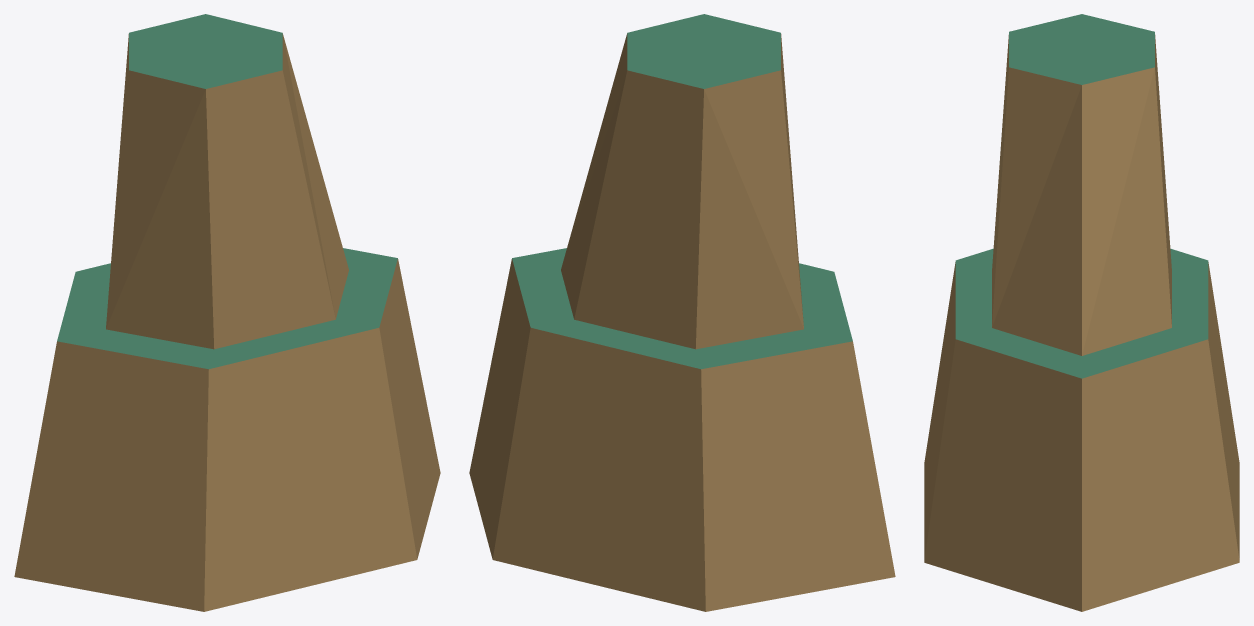
The model's file is Rock_Small_Mesa_Eroded_Moss_Grass_11.FBX.
3 views of the same model, side by side, from view 1: azimuth 30°, elevation 25°; view 2: azimuth 150°, elevation 25°; view 3: azimuth 270°, elevation 25° (orthographic). The views are drawn at different scales.
Parts seen in each view (by area): view 1: Rock_Small_Mesa_Eroded_Moss_Grass_11; view 2: Rock_Small_Mesa_Eroded_Moss_Grass_11; view 3: Rock_Small_Mesa_Eroded_Moss_Grass_11.
Boxes of the visible parts, bbox=[...] form: Rock_Small_Mesa_Eroded_Moss_Grass_11: bbox=[14, 14, 440, 611]; Rock_Small_Mesa_Eroded_Moss_Grass_11: bbox=[469, 14, 895, 611]; Rock_Small_Mesa_Eroded_Moss_Grass_11: bbox=[924, 14, 1239, 611].
Size of the model in its own units: 1865 by 2002 by 1262.
